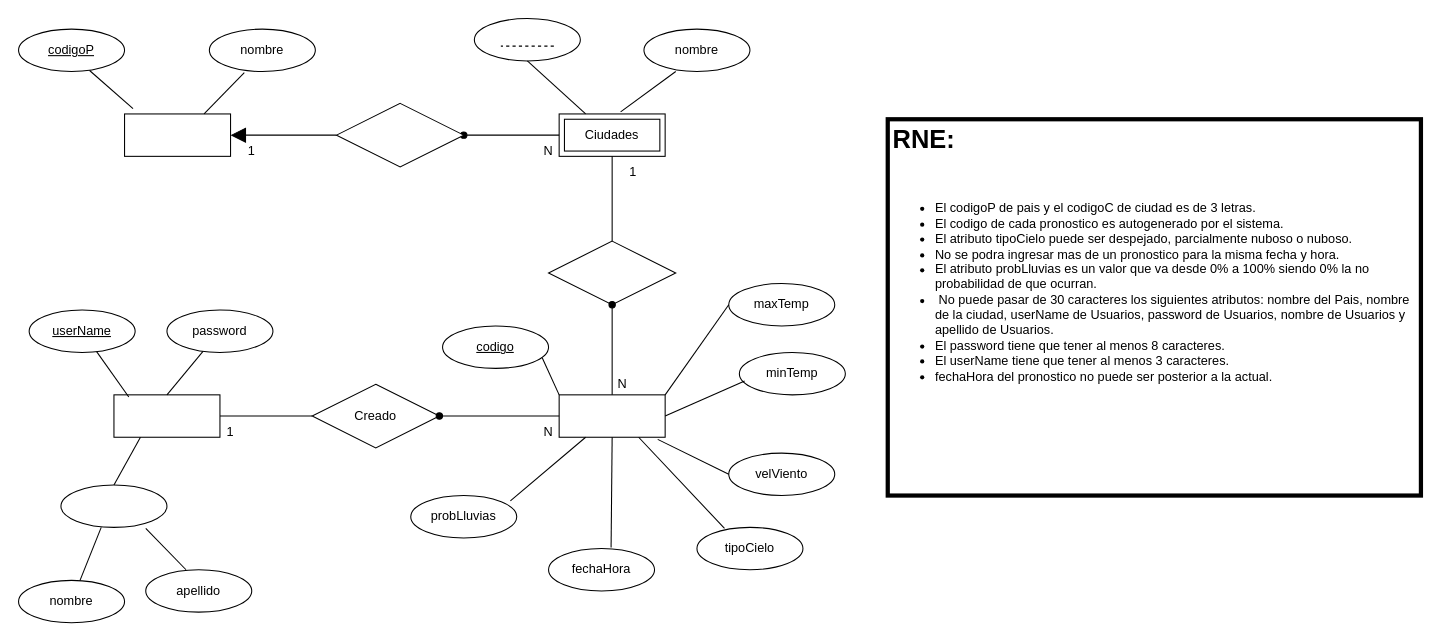
Some shapes in this 1442 by 641 pixel diagram are drawn without their labels. The centre of each missing label's shape, as x and y in pixels:
codigoC: point 526,39
Es de: point 611,272
nombreCompleto: point 113,505
Paises: point 177,134
Pertenece: point 399,134
Pronosticos: point 611,415
Usuarios: point 166,415
